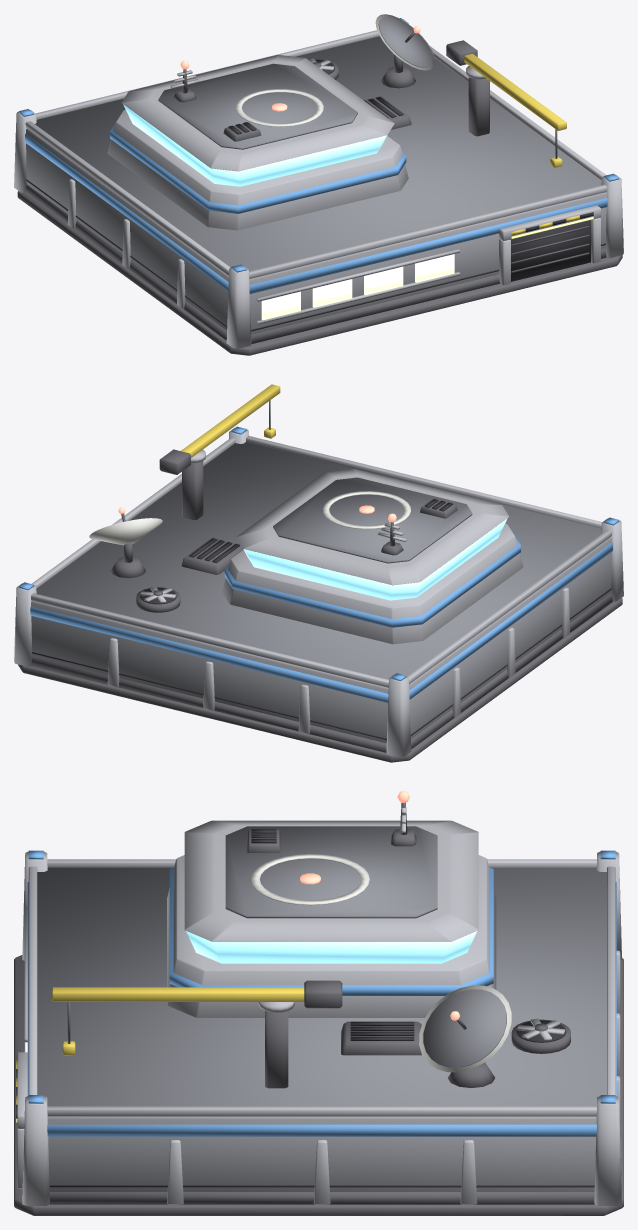
The model's file is yard.glb.
3 renders of one model, top to bottom at view 1: azimuth 30°, elevation 25°; view 2: azimuth 150°, elevation 25°; view 3: azimuth 270°, elevation 25°, orthographic. The views are drawn at different scales.
Parts seen in each view (by area): view 1: body; view 2: body; view 3: body.
Part boxes in pixels (x1,y1,x2,y2): body: [14, 14, 623, 355]; body: [14, 384, 623, 762]; body: [14, 791, 623, 1215].
Bounding box in the file's own units: 2.88 × 1.19 × 2.88.
